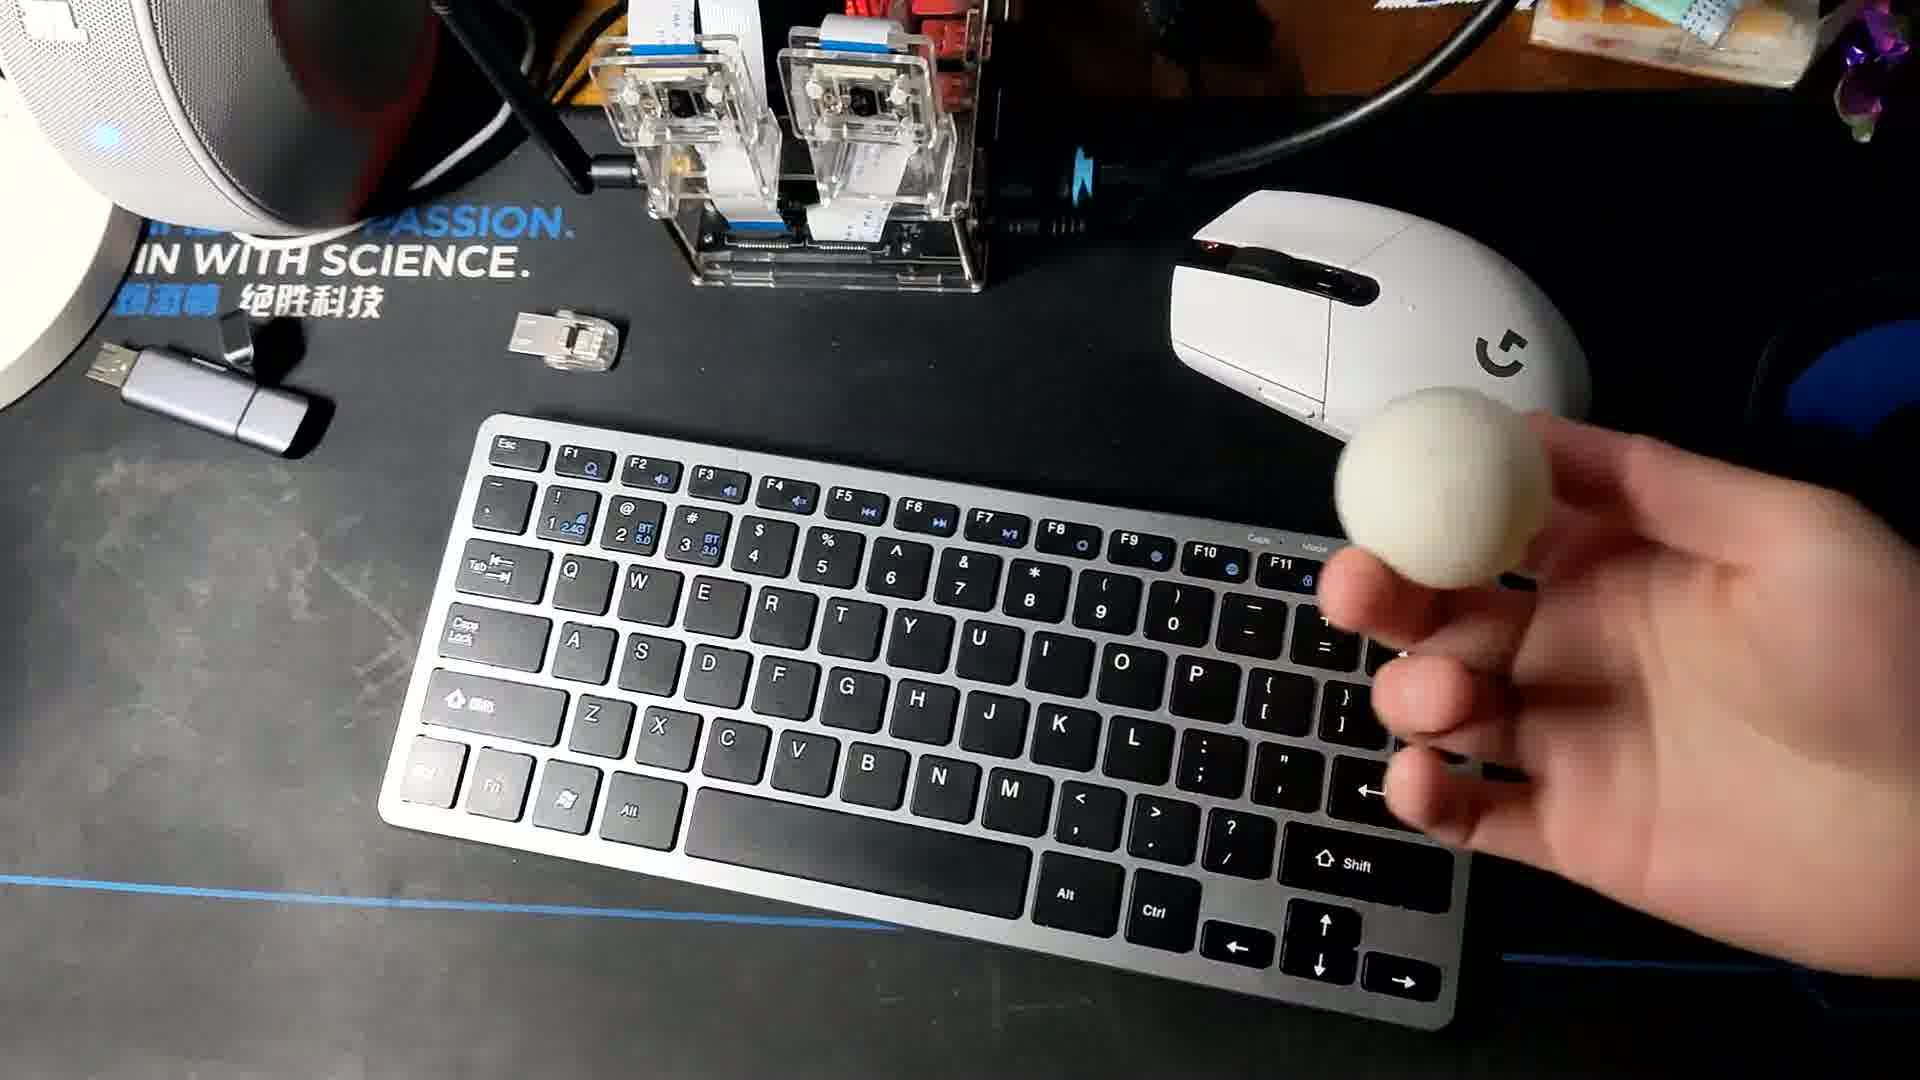Ball: (1327, 389, 1555, 593)
